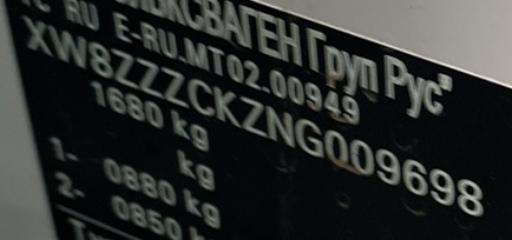letter: (46, 21, 86, 68), (262, 103, 296, 151), (294, 112, 324, 160), (158, 61, 186, 109), (426, 161, 454, 208), (236, 95, 266, 137), (212, 81, 238, 129), (20, 14, 48, 58), (458, 170, 484, 217), (134, 54, 162, 97), (324, 128, 350, 172), (374, 143, 400, 186), (110, 45, 136, 88), (402, 152, 426, 197), (188, 73, 212, 117), (349, 134, 373, 177), (88, 37, 112, 78)
